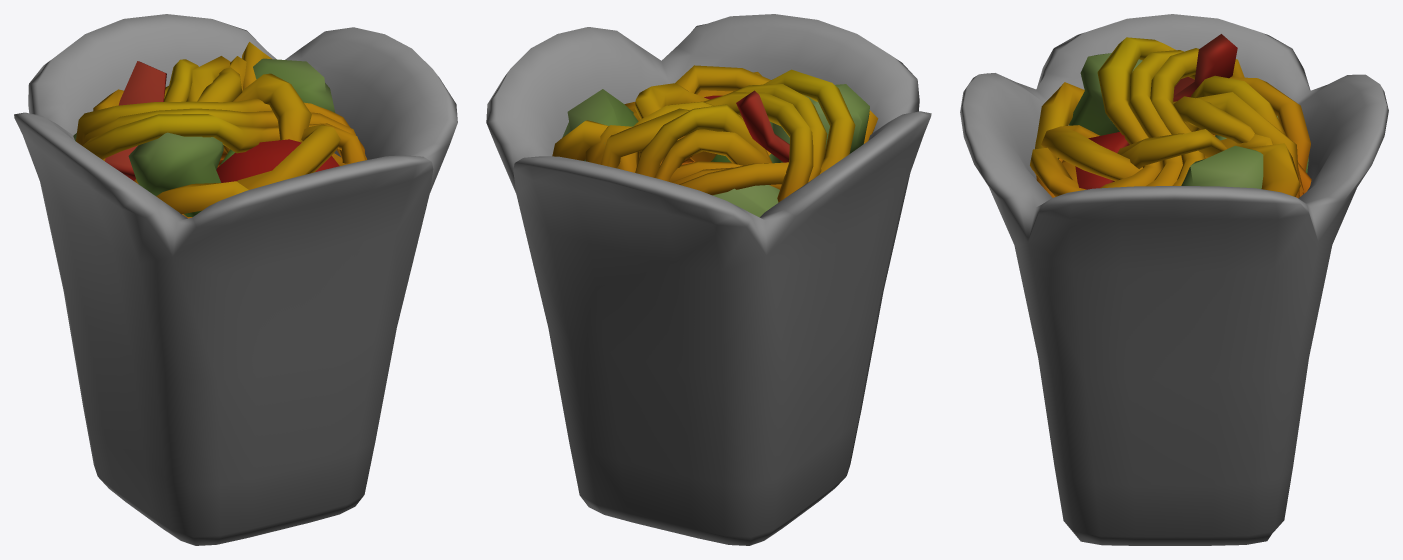
Rendered from noodle.glb.
3 views of the same model, side by side, from view 1: azimuth 30°, elevation 25°; view 2: azimuth 150°, elevation 25°; view 3: azimuth 270°, elevation 25° (orthographic).
Parts seen in each view (by area): view 1: geometry_0; view 2: geometry_0; view 3: geometry_0.
Boxes of the visible parts, x1,y1,x2,y2 form: geometry_0: (14,14,457,545); geometry_0: (486,14,931,545); geometry_0: (960,14,1388,545).
Size of the model in its own units: 0.1553 by 0.1767 by 0.1558.
Materials: 1 (1 with a texture image).
